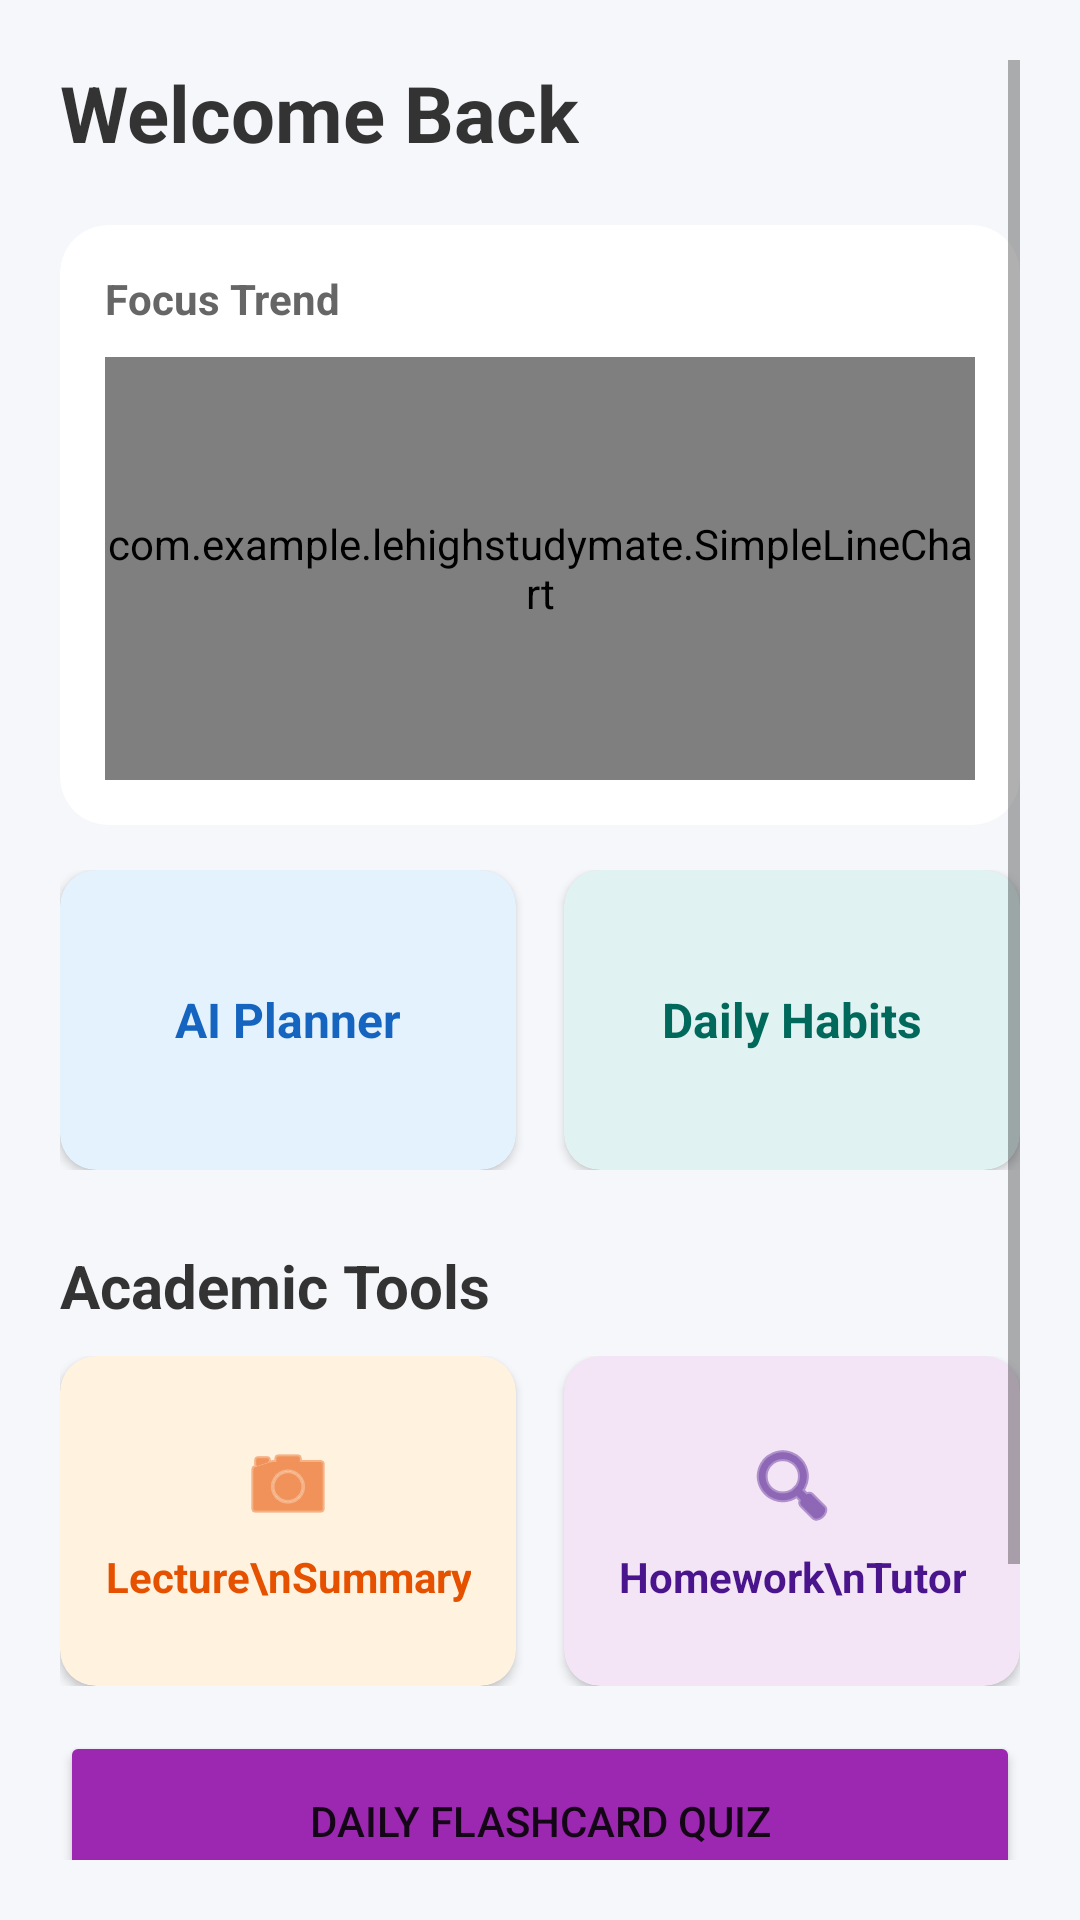

Screen size 1080x1920. Icon name, then its center in pixels as (x,y):
camera: (288,1483)
search: (792,1485)
